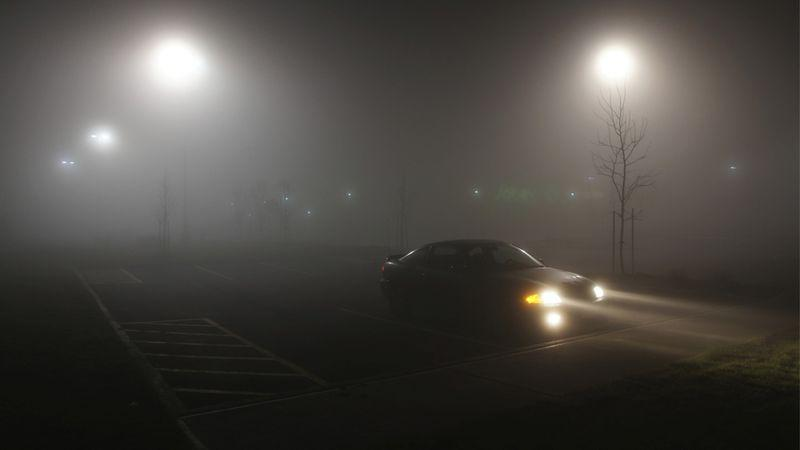car: (377, 237, 609, 337)
